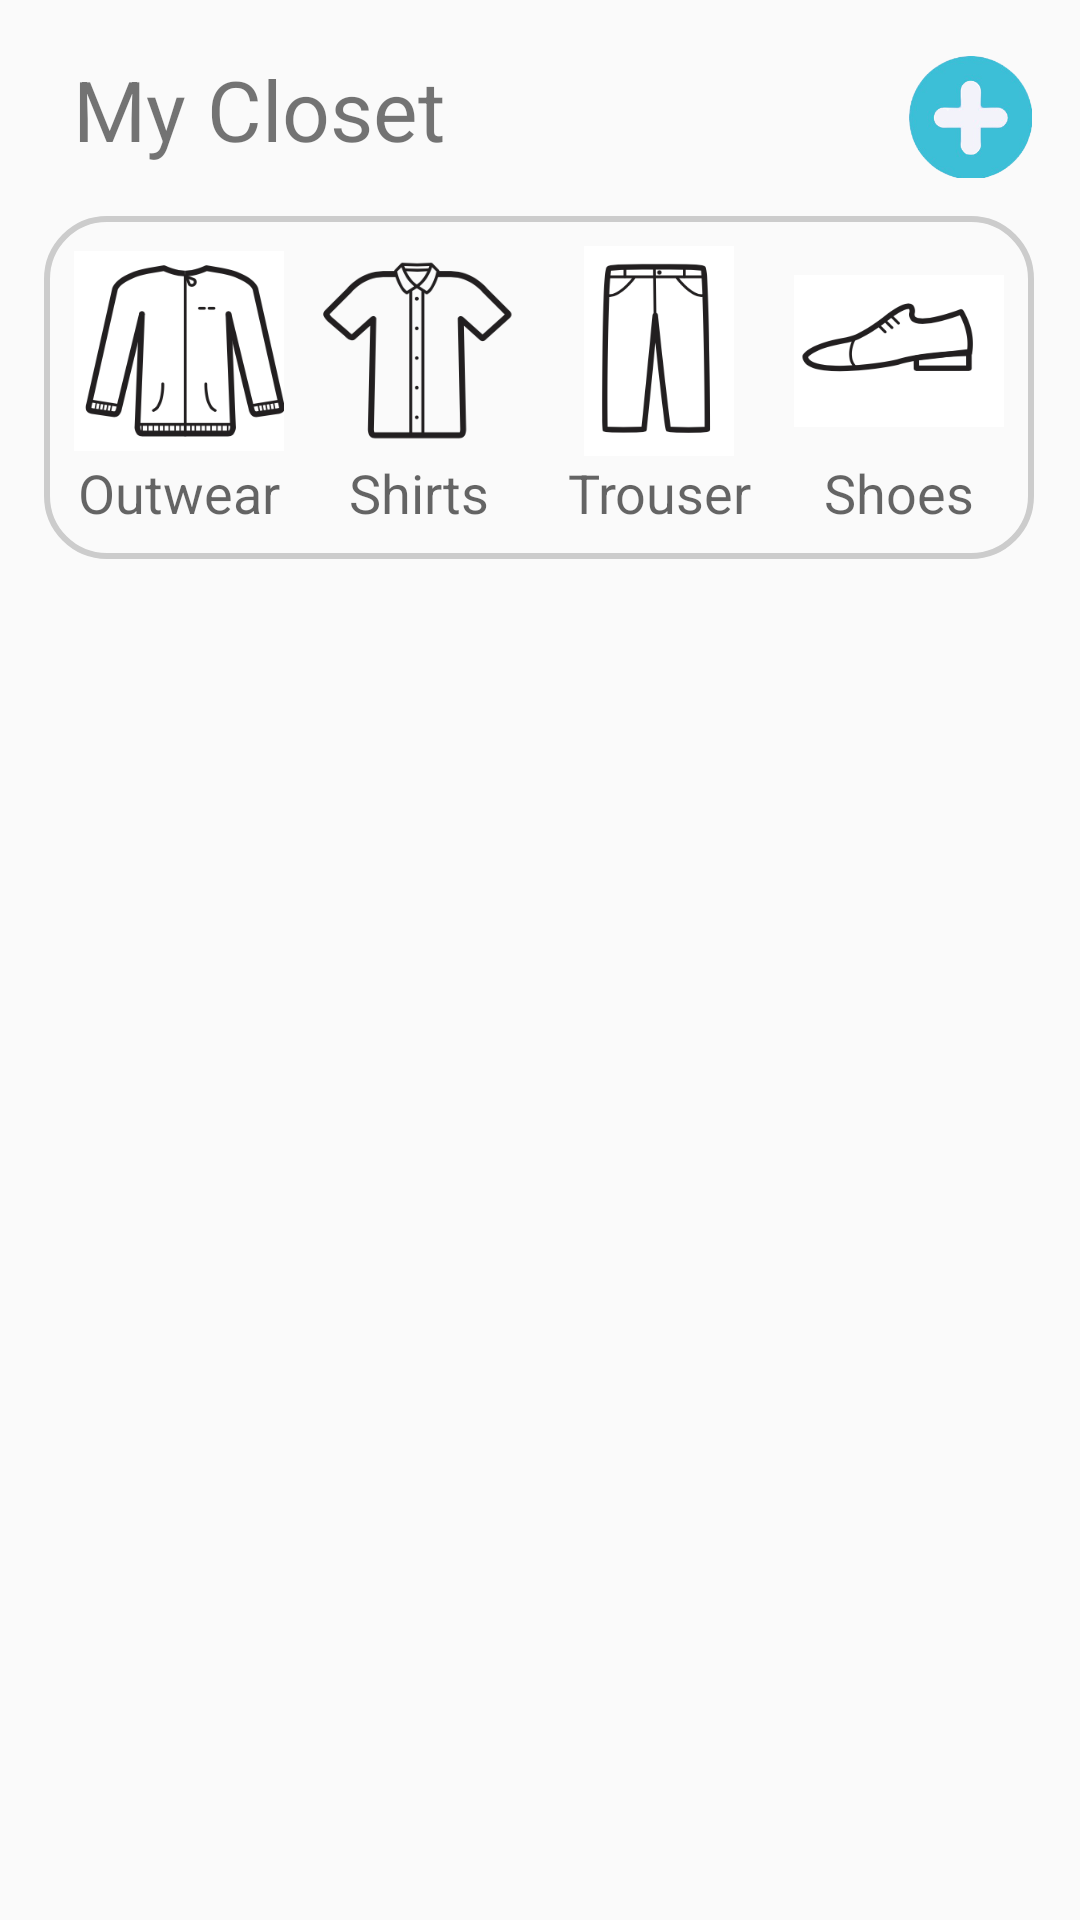

Point at icon controls on the screen. Image size 1080w x 1920h, points as (x,y).
add: (970,117)
